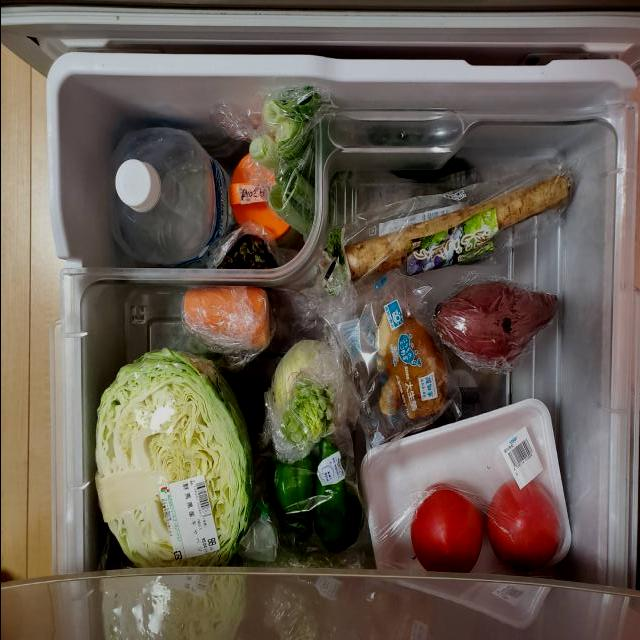cabbage: (90, 349, 253, 569)
carrot: (182, 288, 276, 352)
